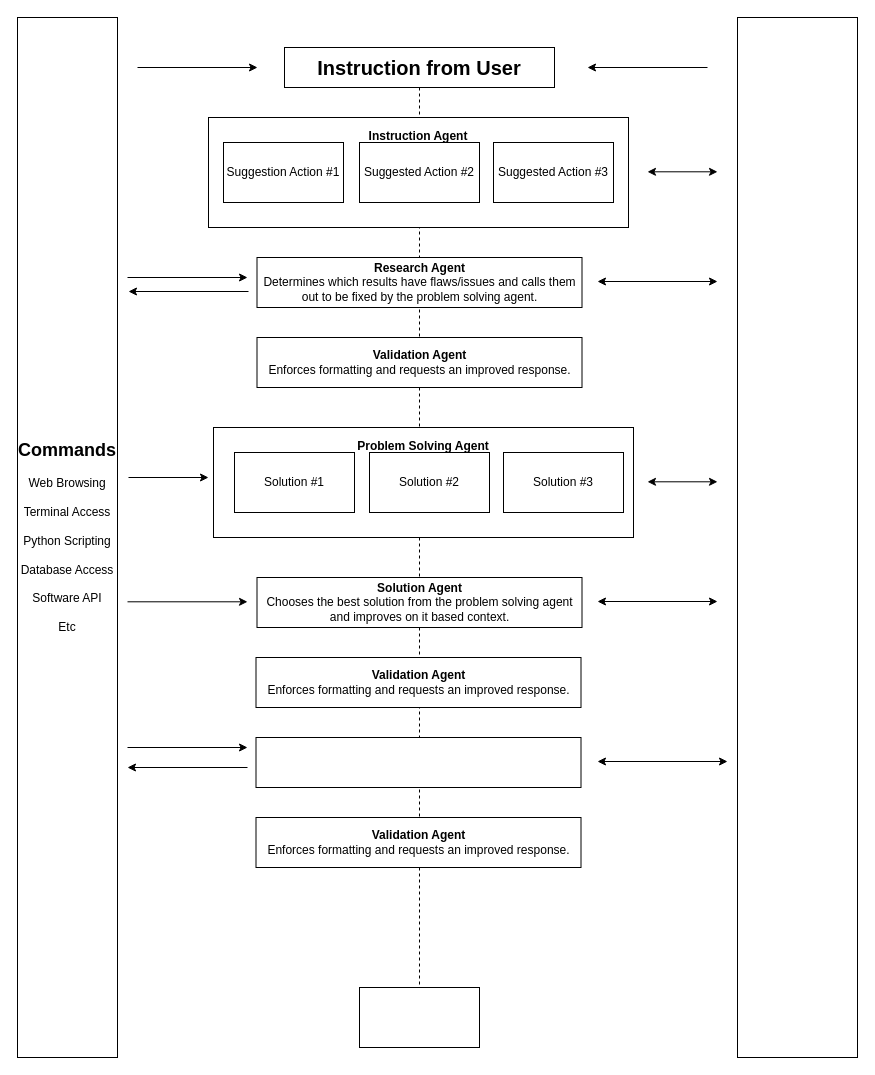
The diagram is 875 pixels wide and 1075 high, and some of its shapes have lost their labels. The centre of each missing label's shape, as x and y in pixels:
Execution Agent Executes commands from the Solution Agent and returns outputs.: (x=418, y=762)
Final Output: (x=419, y=1017)
Memories: (x=797, y=537)
